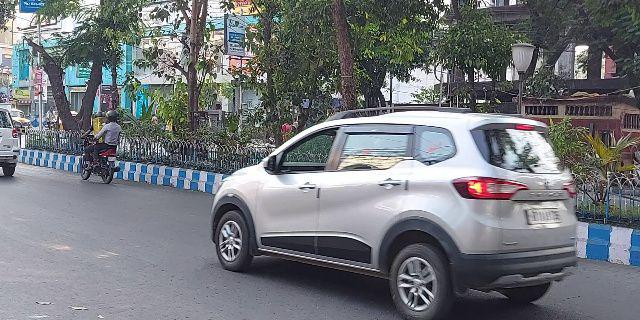Car: (209, 104, 580, 316), (1, 105, 21, 182)
Motorbike: (77, 106, 123, 184)
